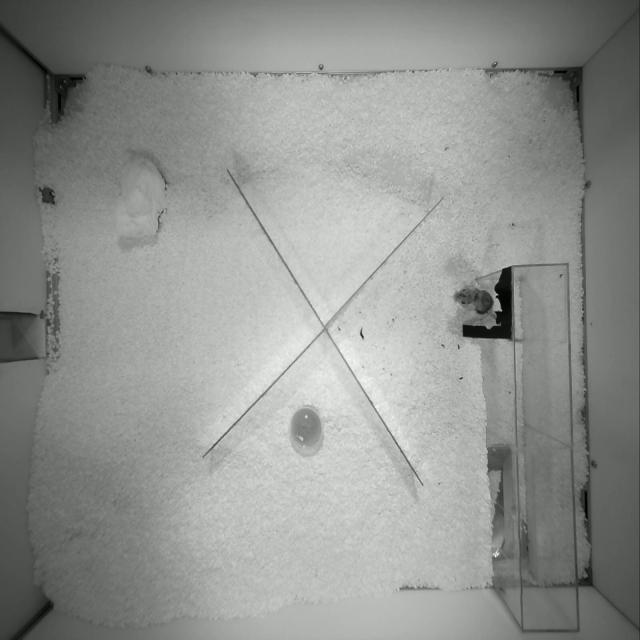adult_front: (454, 287, 496, 319)
